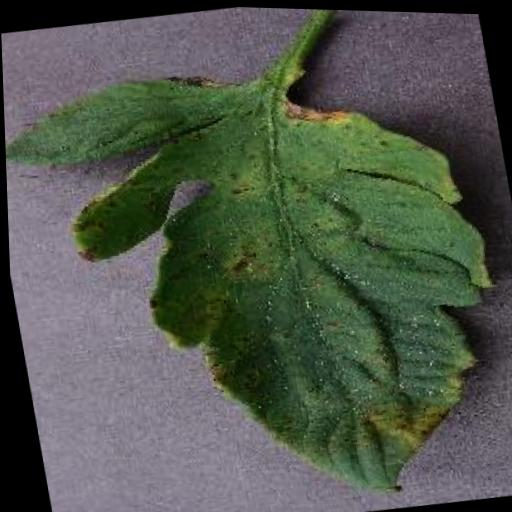Bacterial Spot: (1, 23, 512, 512)
